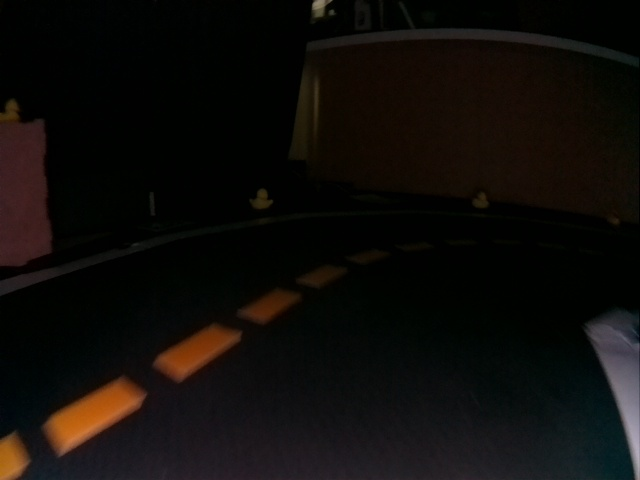Duckie: (0, 98, 21, 122), (250, 188, 272, 209), (472, 192, 489, 208), (608, 211, 620, 224)
